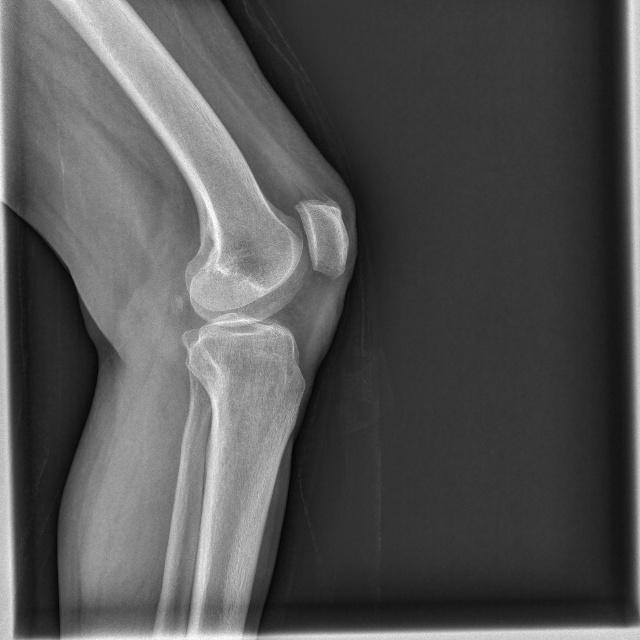Knee: (173, 198, 350, 375)
